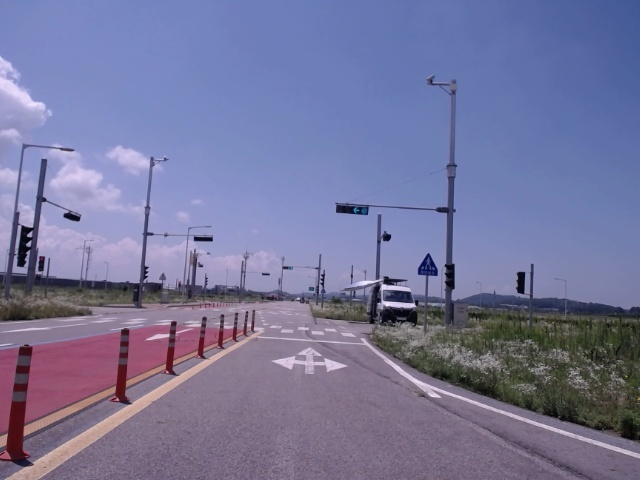all_green_4: (338, 203, 371, 215)
